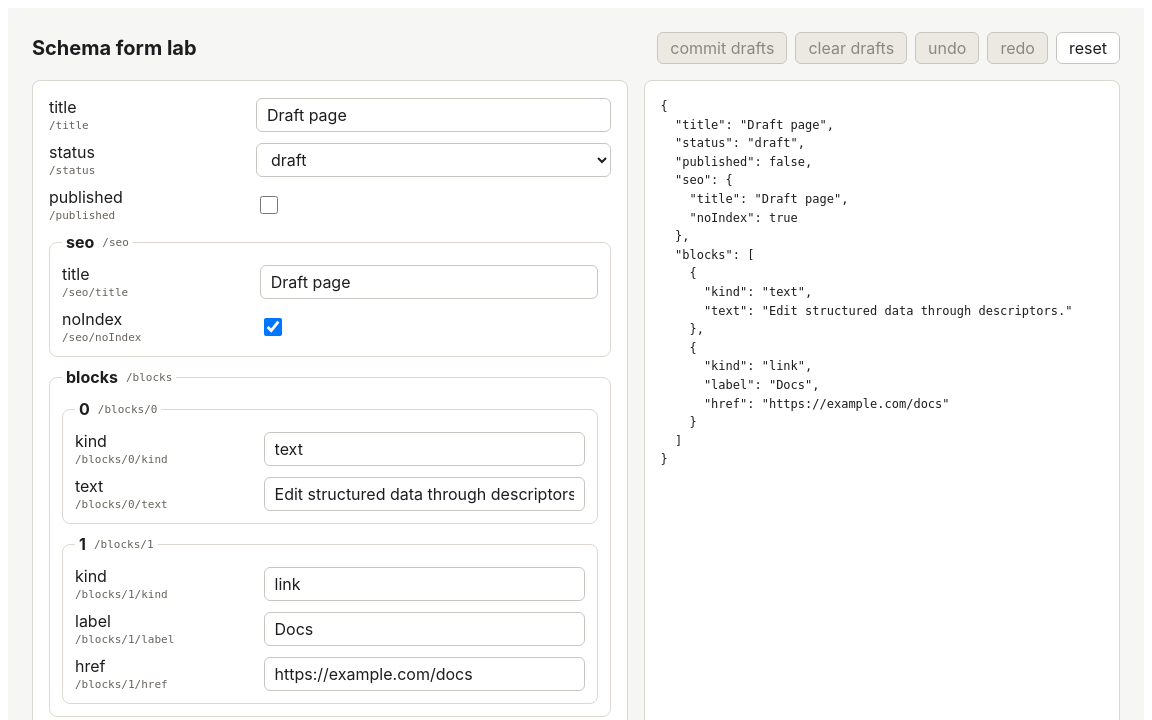
Test case: schema form lab dogfood › commits scalar, enum, and boolean form drafts through descriptor paths
This screenshot has width=1152, height=720.
Replace the text in the field labelled "/title" with "Published page": (433, 114) [256,98,610,132]
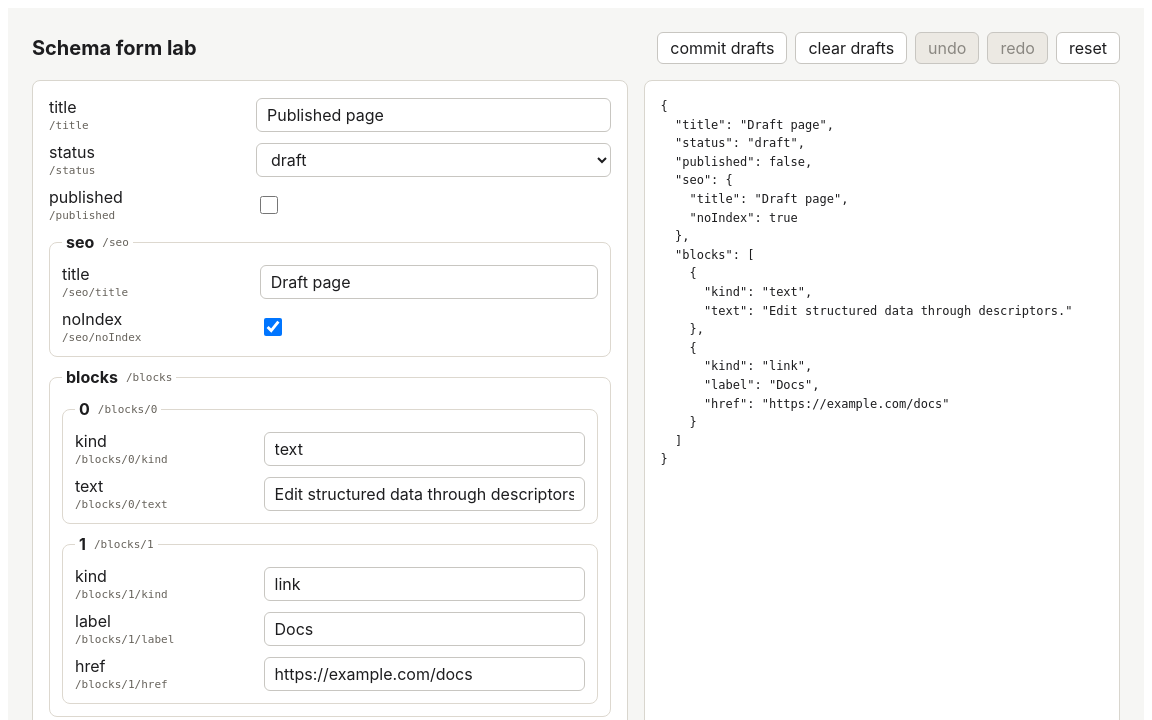
Select "review" in the dropdown labelled "/status": (433, 160) [256,142,610,176]
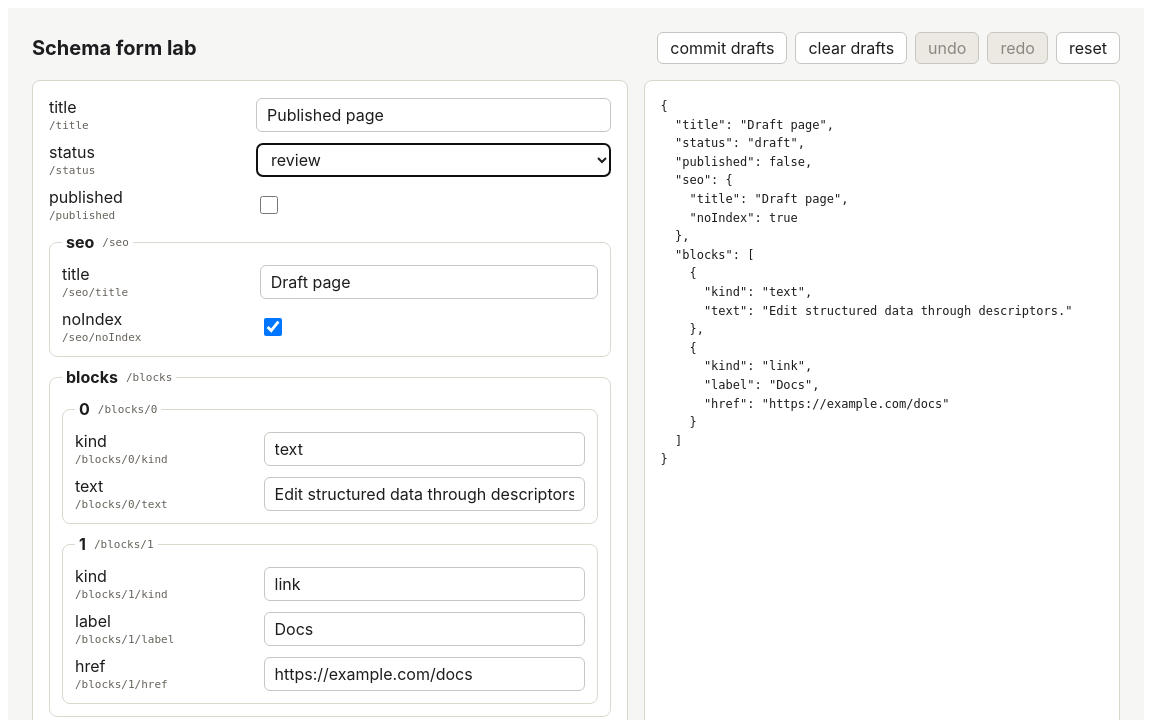
Click the checkbox labelled "/published": (269, 204) [260,196,278,214]
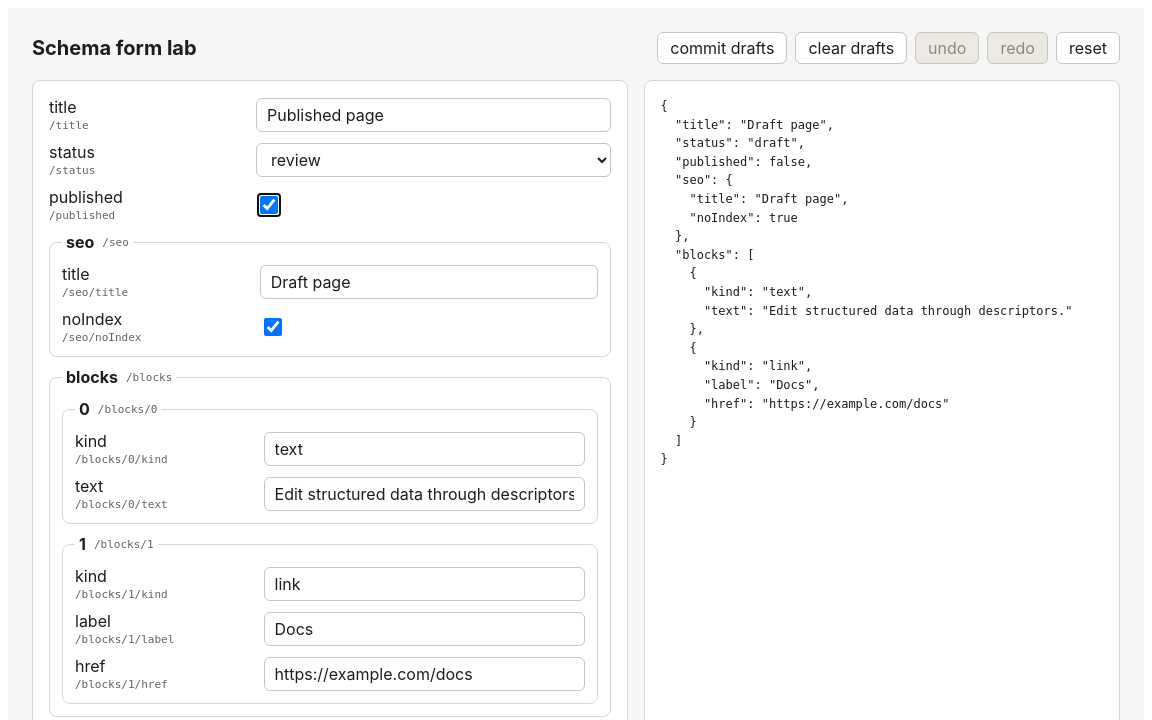
Click the button "commit drafts": (722, 48) [657,32,787,64]
(page scrolled)
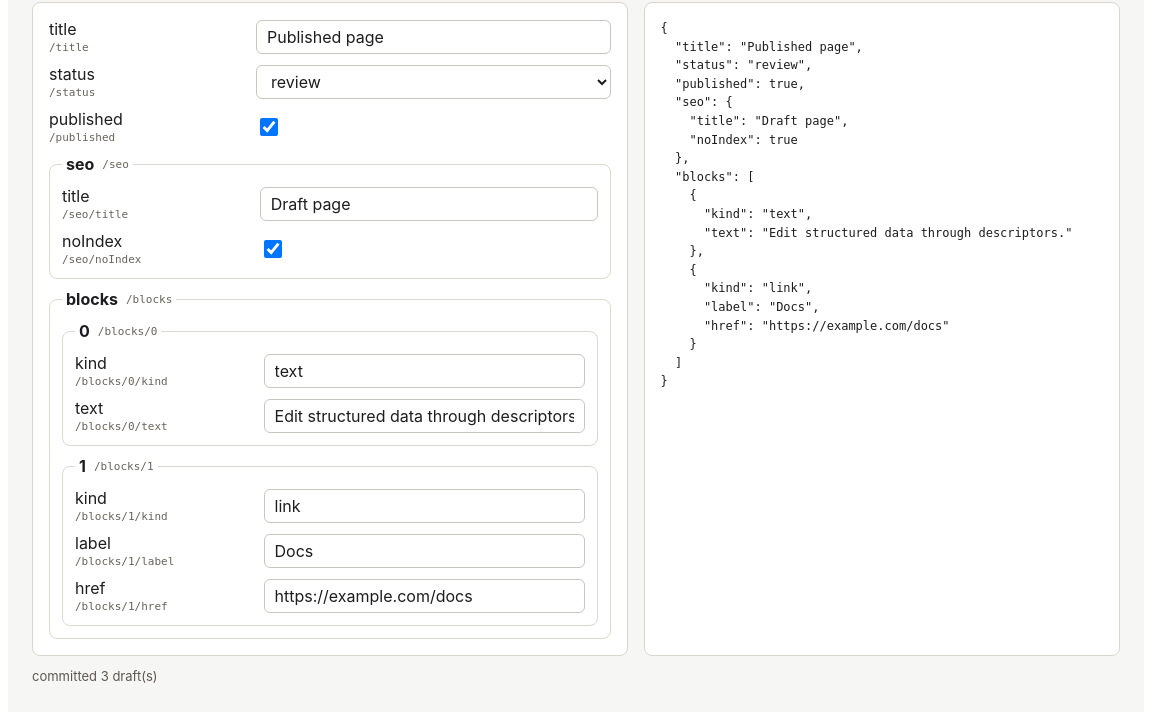
Now the message reads "committed 3 draft(s)", box [32,668,158,684]
